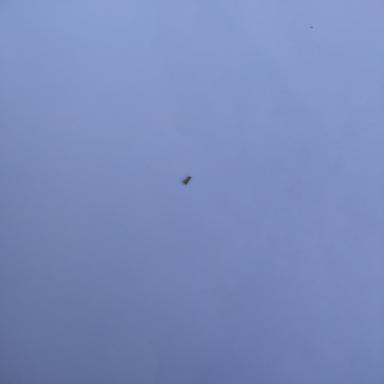pbw: (176, 174, 196, 190)
